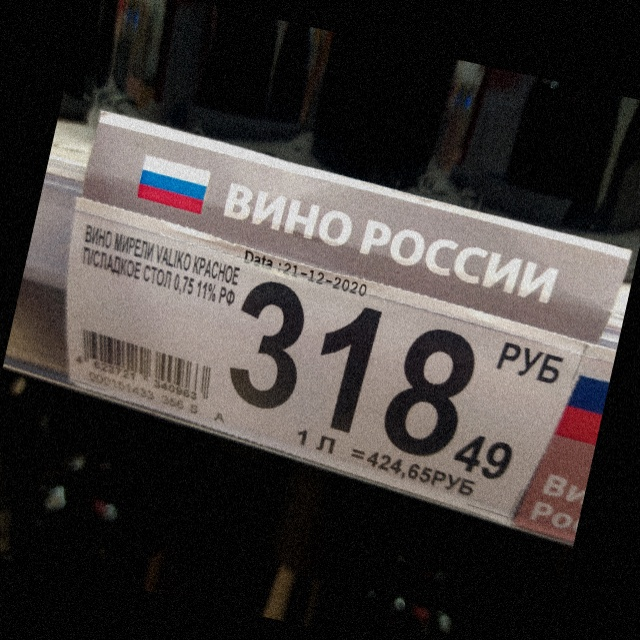barcode: (73, 323, 215, 403)
name: (79, 222, 243, 313)
price: (229, 270, 517, 482)
price_tag: (70, 193, 592, 527)
